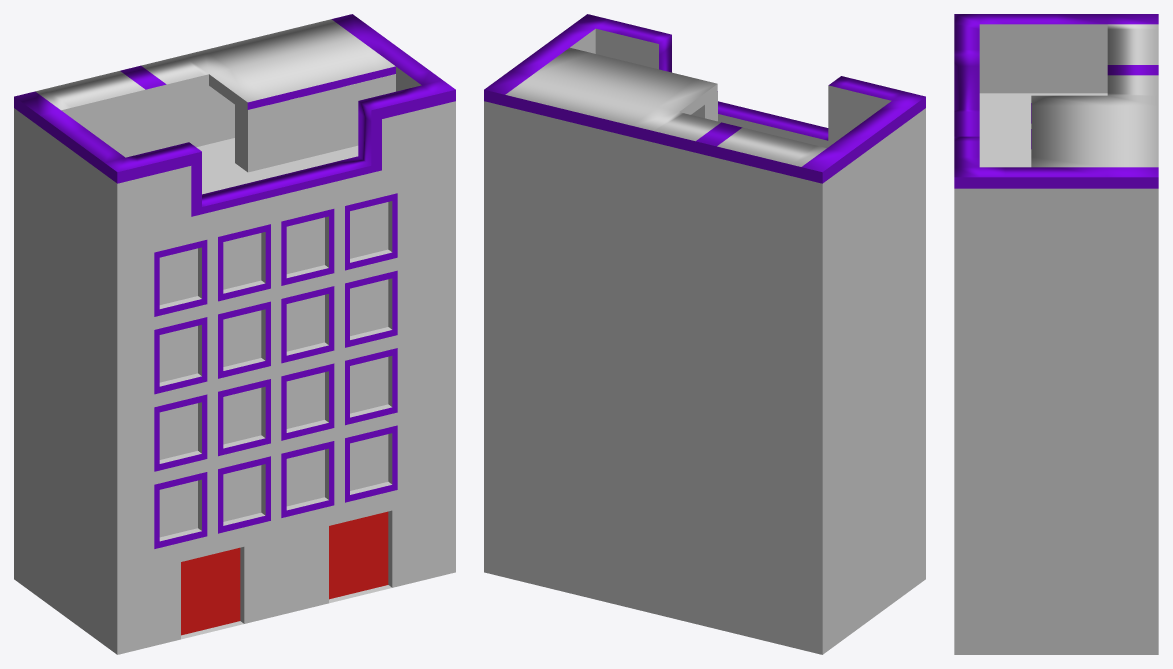
The picture shows the model from 3 angles, left to right: view 1: azimuth 30°, elevation 25°; view 2: azimuth 150°, elevation 25°; view 3: azimuth 270°, elevation 25°; orthographic projection.
Visible parts, largest first — view 1: Cube.012; view 2: Cube.012; view 3: Cube.012.
Boxes of the visible parts, x1,y1,x2,y2 form: Cube.012: (14, 14, 455, 654); Cube.012: (484, 14, 925, 654); Cube.012: (954, 14, 1158, 654).
Bounding box in the file's own units: 659 × 898 × 349.
